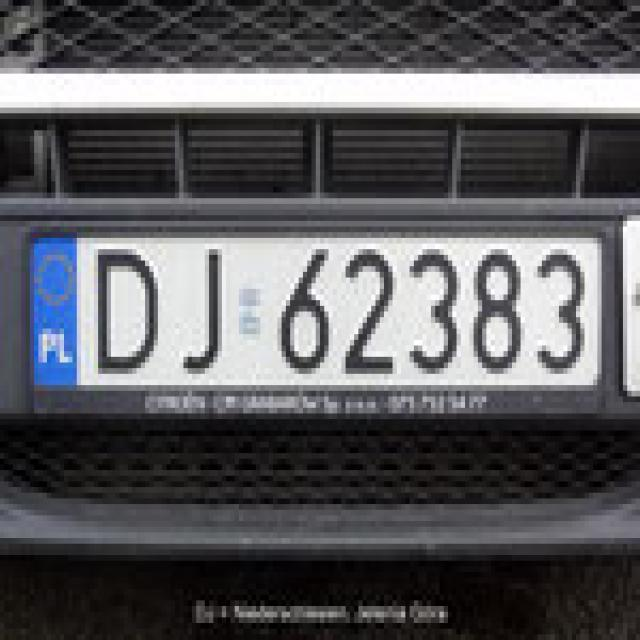pl_license_plate: (26, 232, 597, 380)
